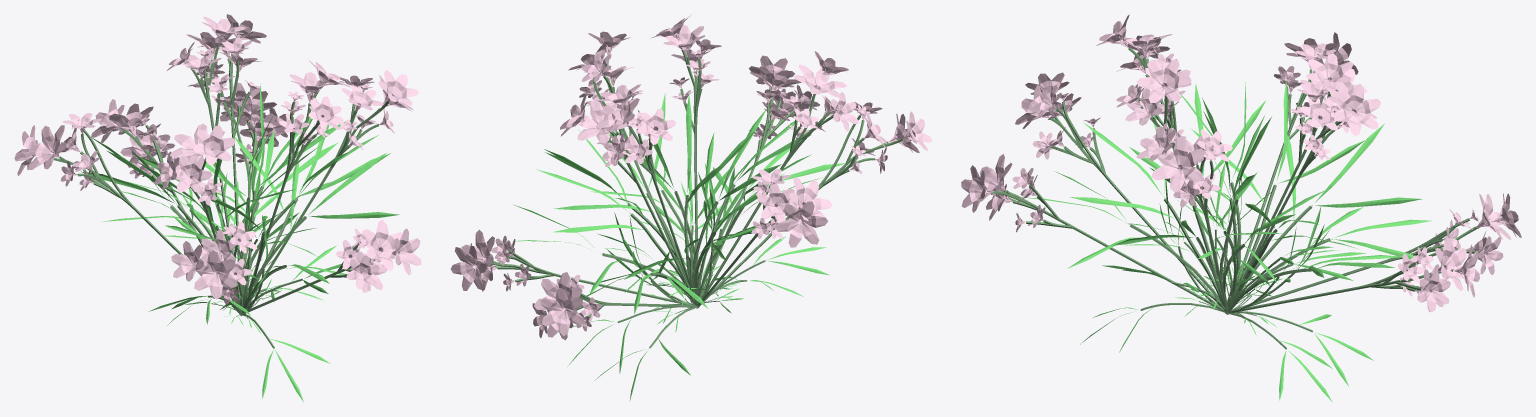
The picture shows the model from 3 angles, left to right: view 1: azimuth 30°, elevation 25°; view 2: azimuth 150°, elevation 25°; view 3: azimuth 270°, elevation 25°; orthographic projection. The views are drawn at different scales.
Visible parts, largest first — view 1: 1coreopsi; view 2: 1coreopsi; view 3: 1coreopsi.
Boxes of the visible parts, x1,y1,x2,y2 form: 1coreopsi: (14,14,421,402); 1coreopsi: (450,15,932,401); 1coreopsi: (961,14,1521,401).
Bounding box in the file's own units: 5.96 × 5.28 × 8.27.
